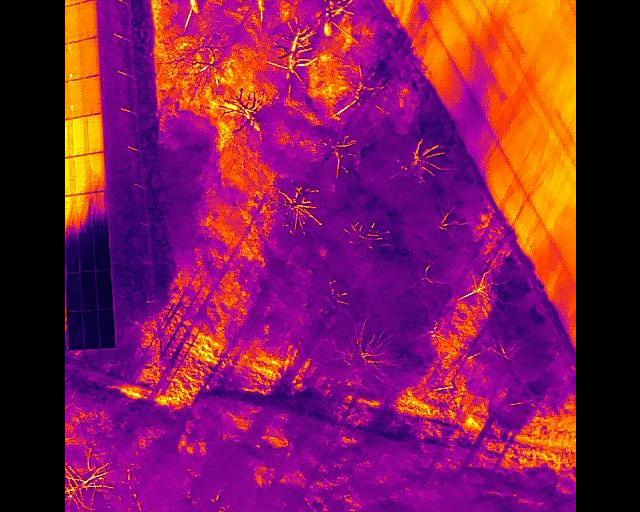Cell: (70, 79, 86, 117)
Cell-Multi: (67, 42, 83, 80)
No-Anomaly: (76, 0, 97, 40), (88, 152, 105, 192), (72, 114, 87, 156), (87, 113, 103, 152), (73, 154, 88, 195), (85, 76, 101, 114), (83, 39, 98, 77)
Shadowing: (67, 310, 84, 349), (93, 231, 110, 270), (81, 271, 97, 311), (83, 309, 99, 349), (98, 309, 114, 348), (65, 272, 81, 311), (76, 192, 91, 232), (78, 232, 93, 272), (97, 270, 112, 310), (91, 191, 105, 231), (64, 235, 78, 273)
